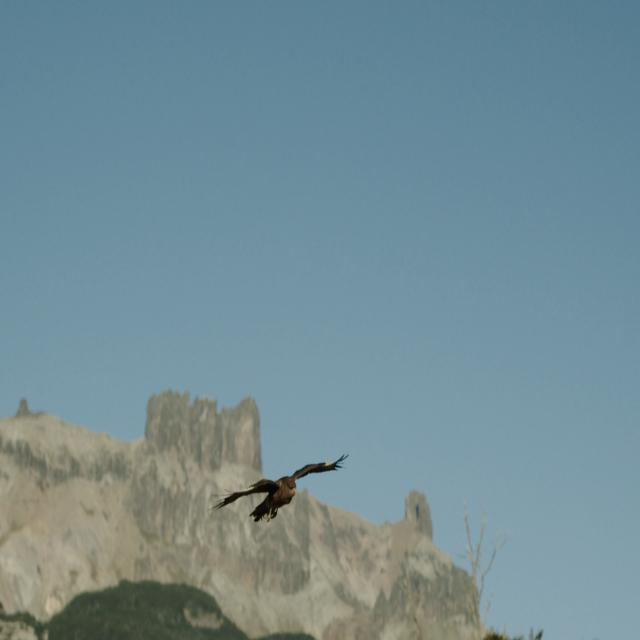bird: (212, 432, 354, 532)
